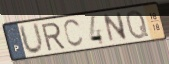4: (87, 15, 107, 46)
C: (62, 17, 85, 49)
N: (102, 11, 129, 45)
Q: (124, 8, 150, 41)
R: (39, 21, 67, 52)
U: (17, 21, 46, 56)
